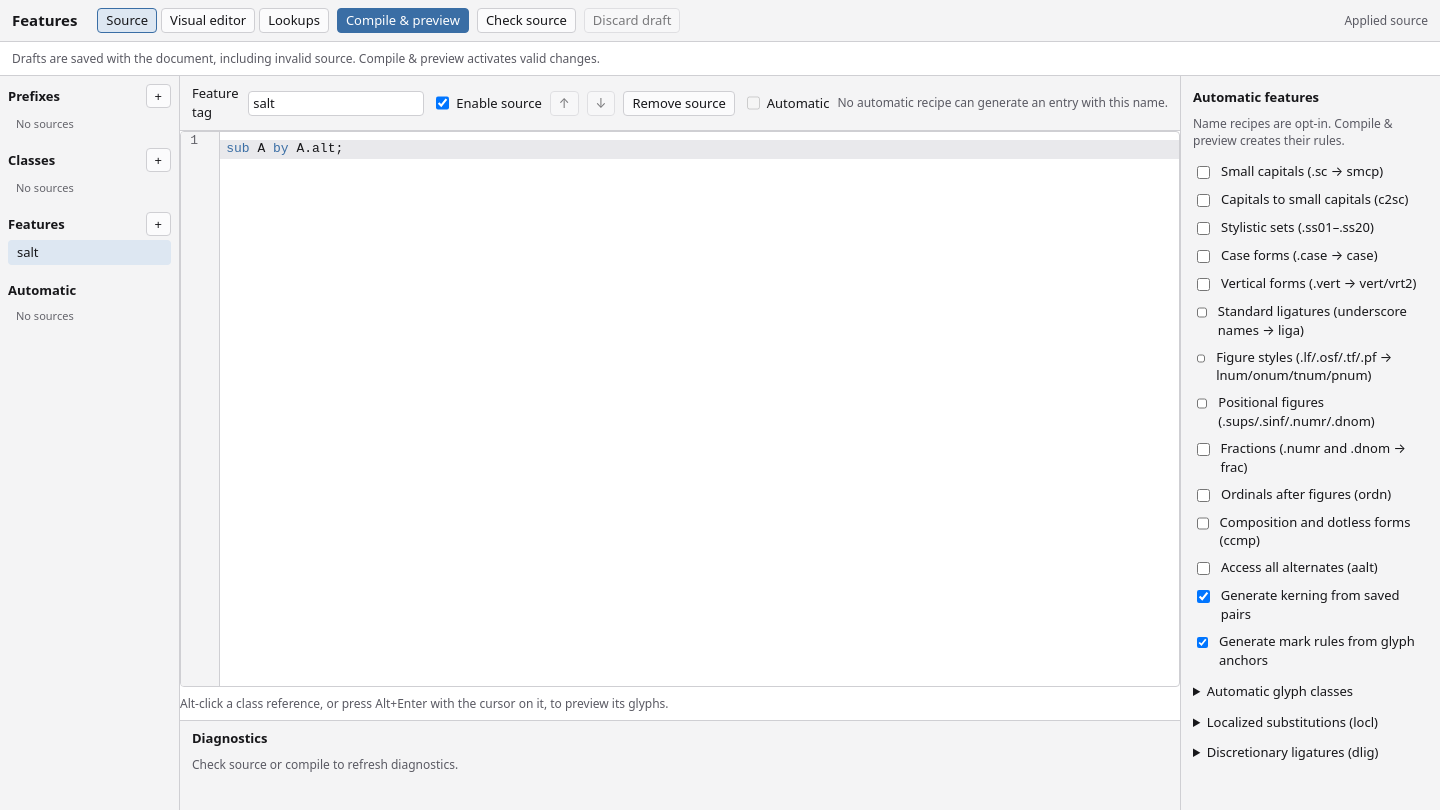
Test: Visual lookup editor › persists incomplete edits across the document save barrier
The image size is (1440, 810).
Click the button "Visual editor" at (208, 20), box [161,8,255,33]
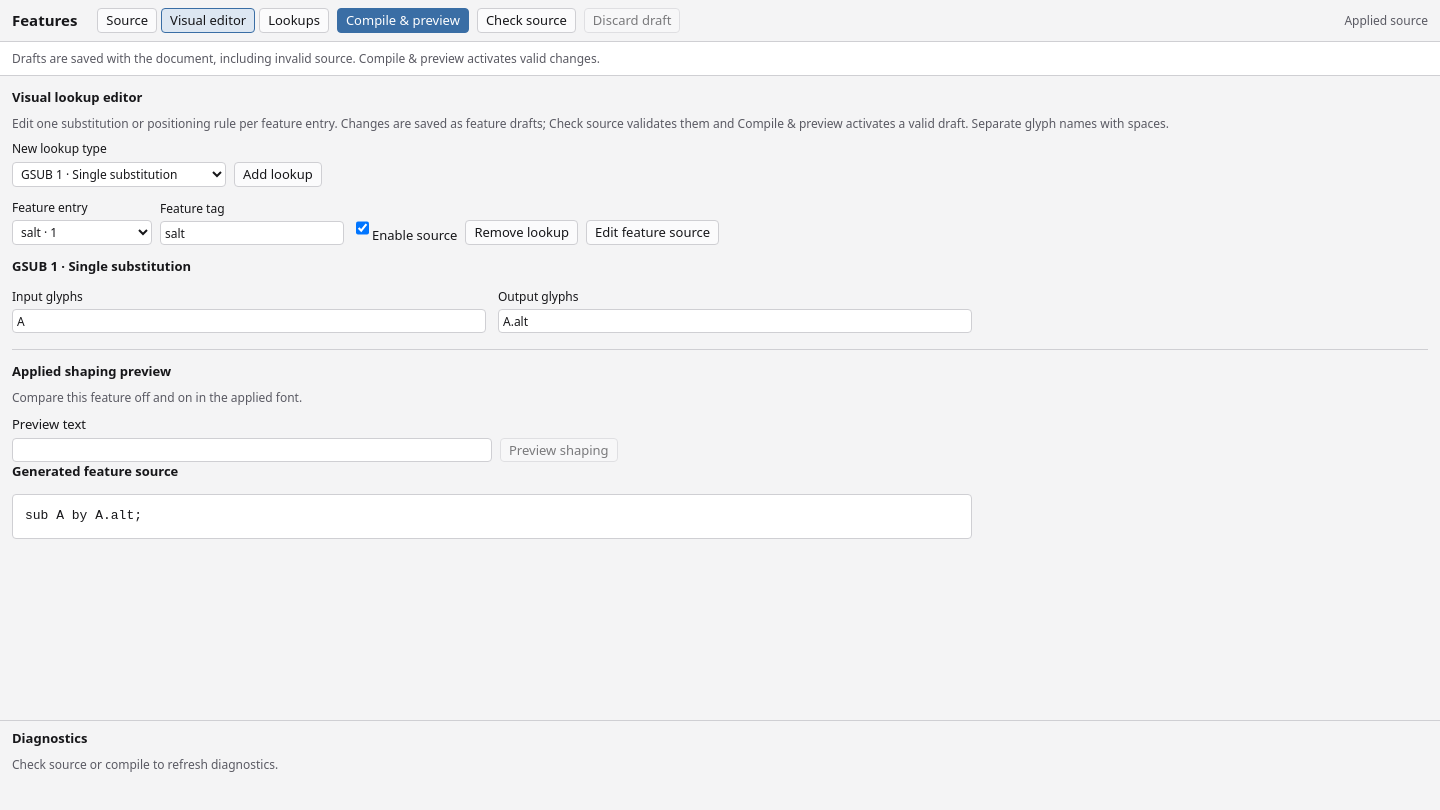
Expected: the element "Visual lookup editor" is shown
Clear the field labelled "Output glyphs" at (735, 322), box [498,310,972,334]
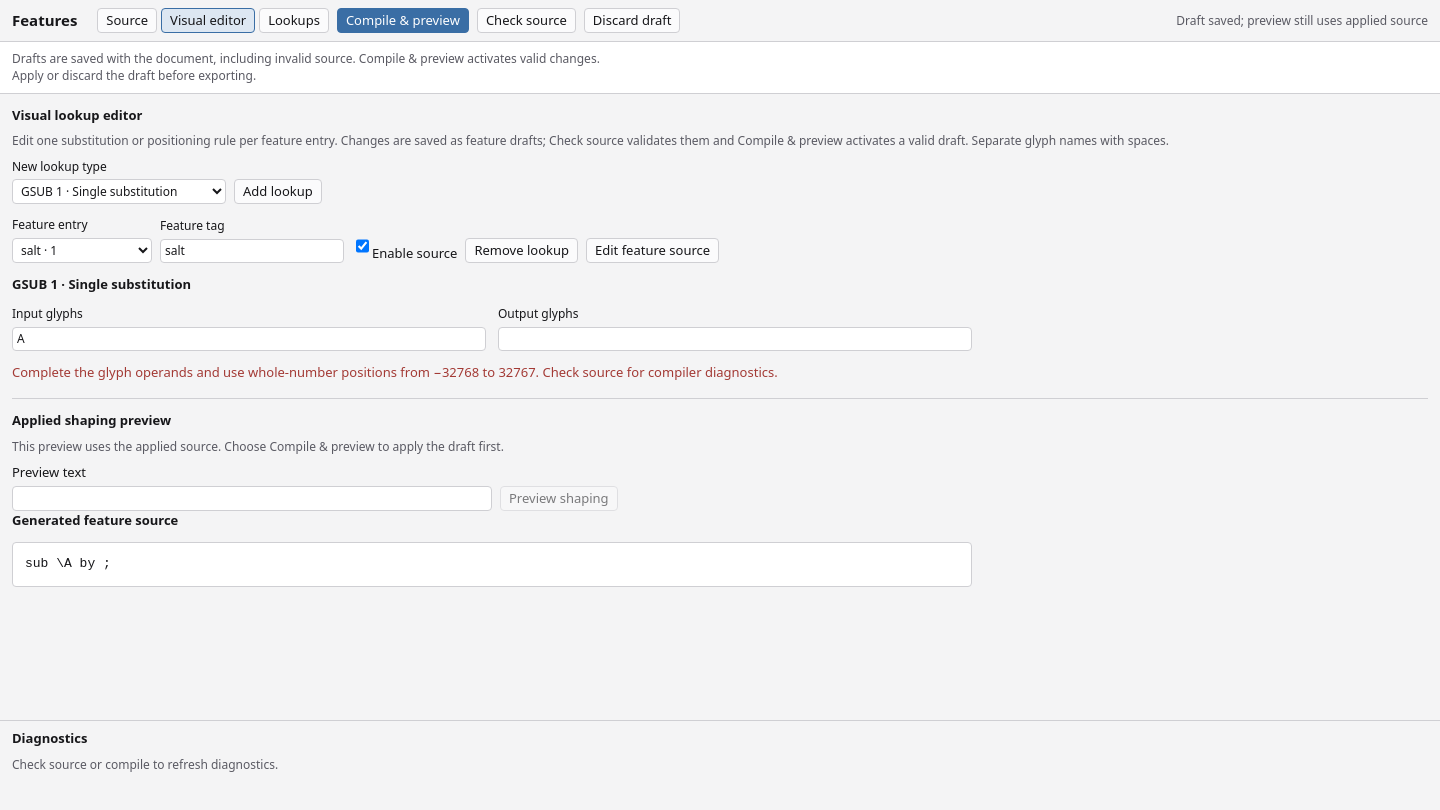
Expected: the text "sub \\A by ;" is shown, [12,542,972,587]
